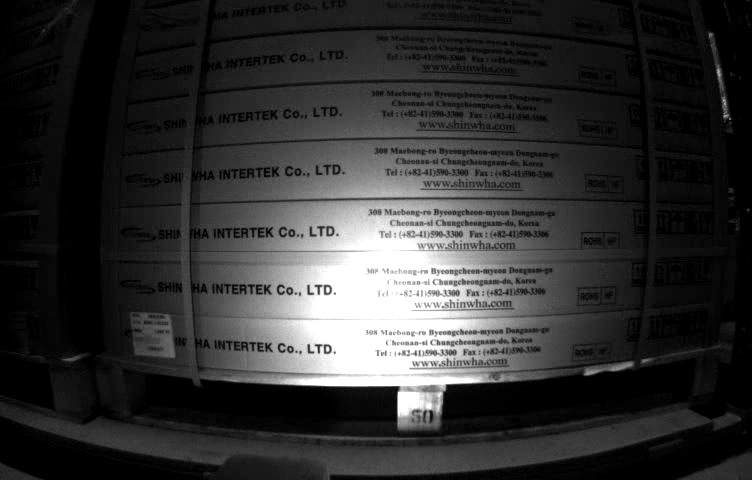True Barcode: (129, 309, 177, 359)
